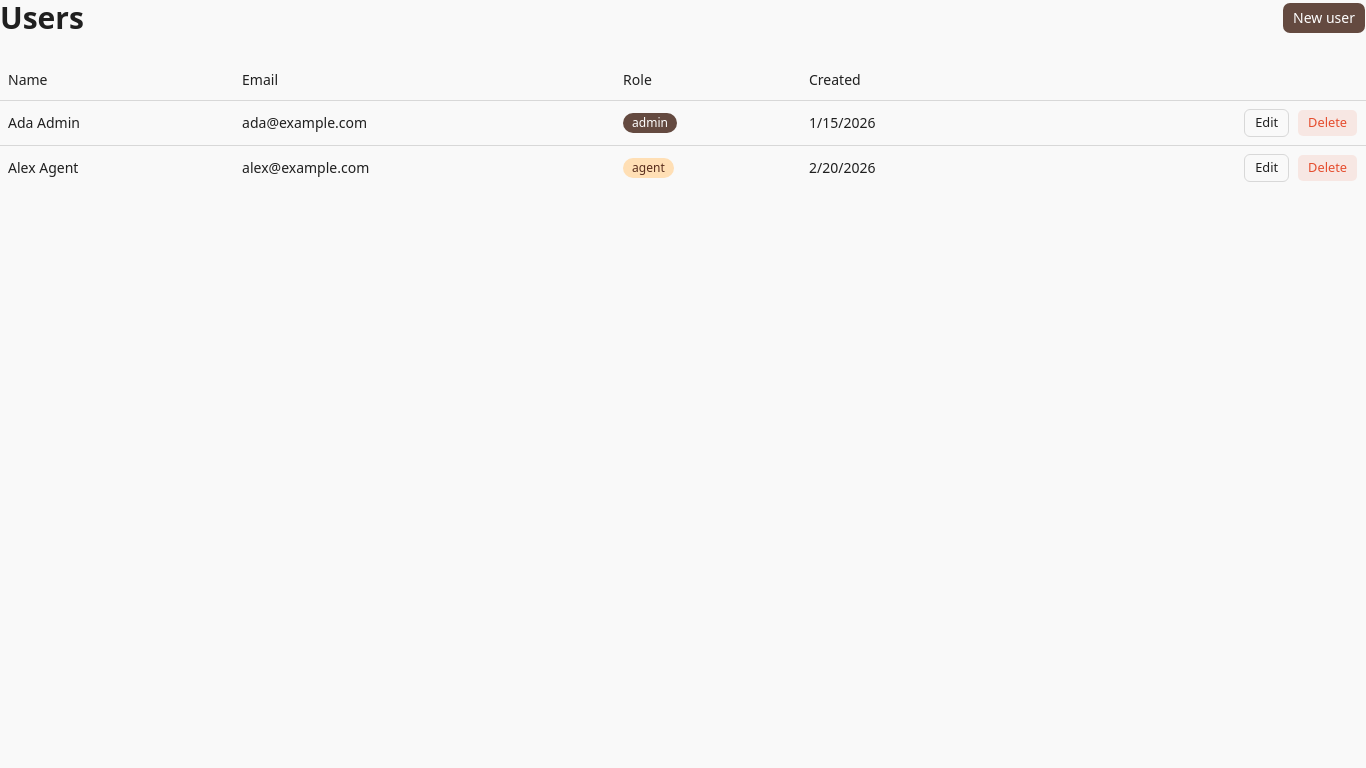
Test: UsersPage › editing a user › rejects a too-short new password
This screenshot has width=1366, height=768.
Click the button with aria-label "Edit Alex Agent". click: (1267,168)
box: x1=1244 y1=154 x2=1289 y2=182
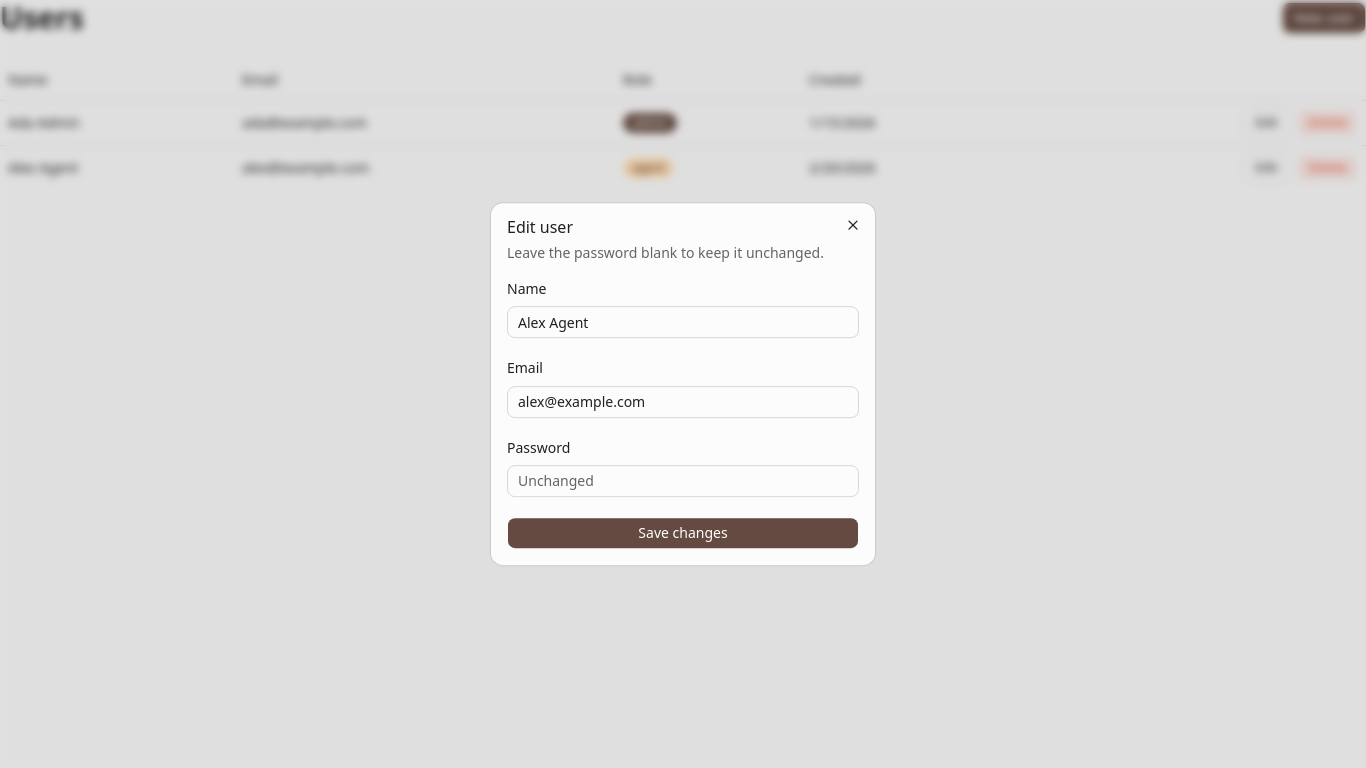
Type "short" into the password field labelled "Password". click: (683,481)
box: x1=507 y1=465 x2=859 y2=497
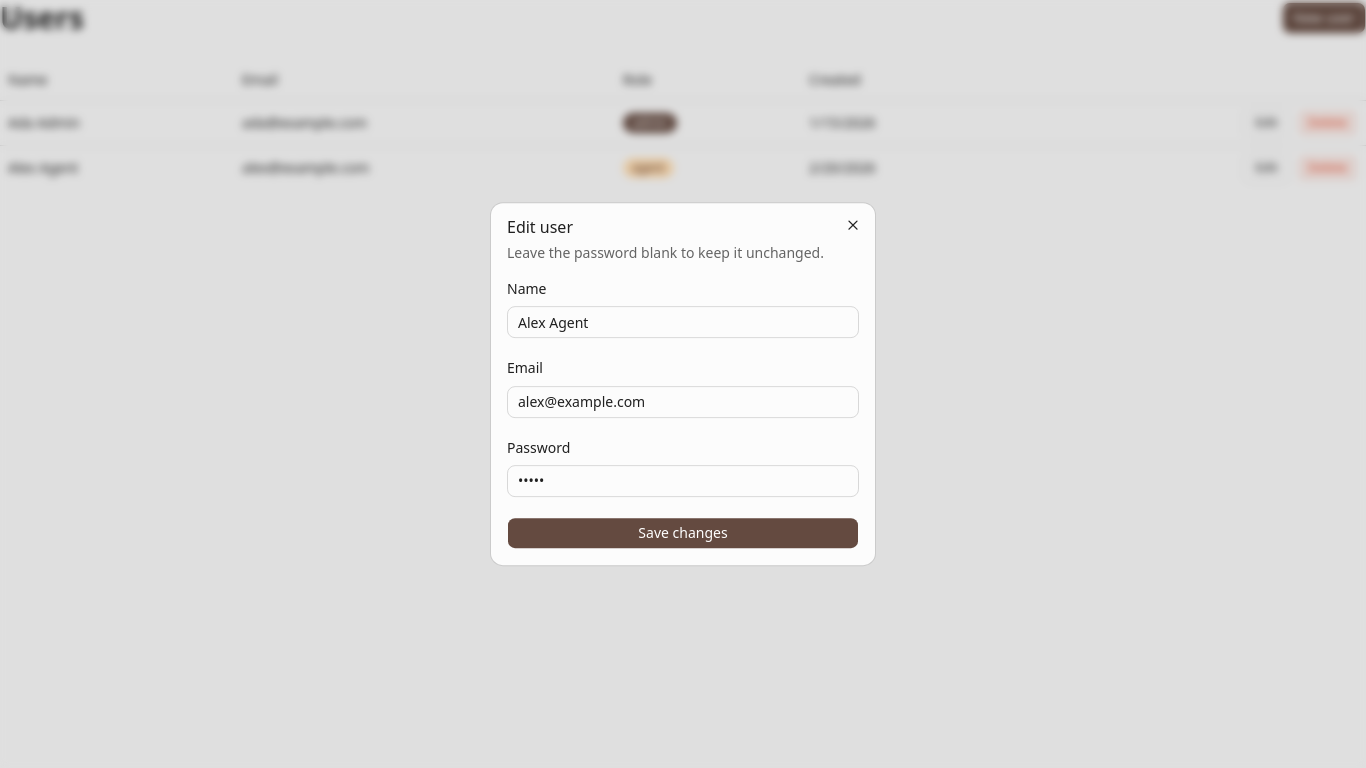
Click the button "Save changes". click: (683,533)
box: x1=507 y1=517 x2=859 y2=549
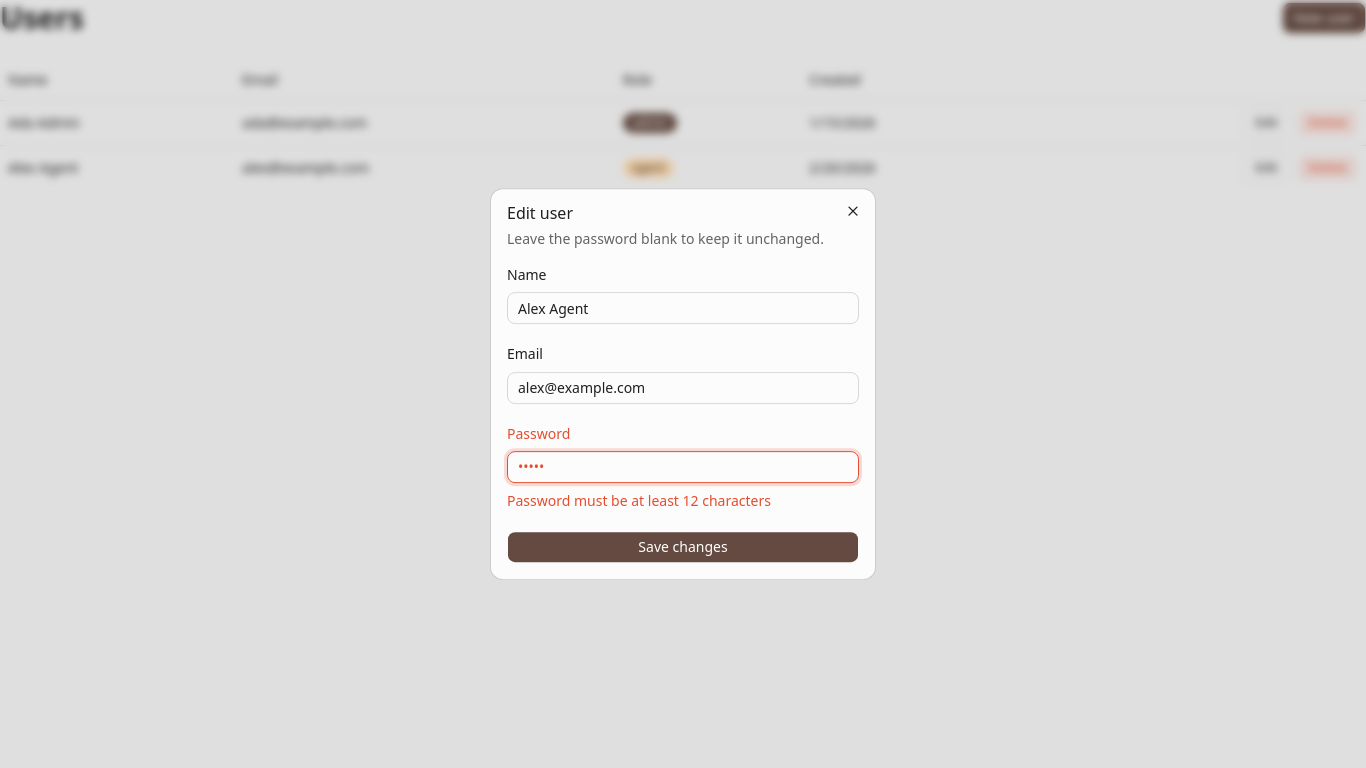
Result: the text "Password must be at least 12 characters" is shown at x1=507 y1=491 x2=771 y2=510
